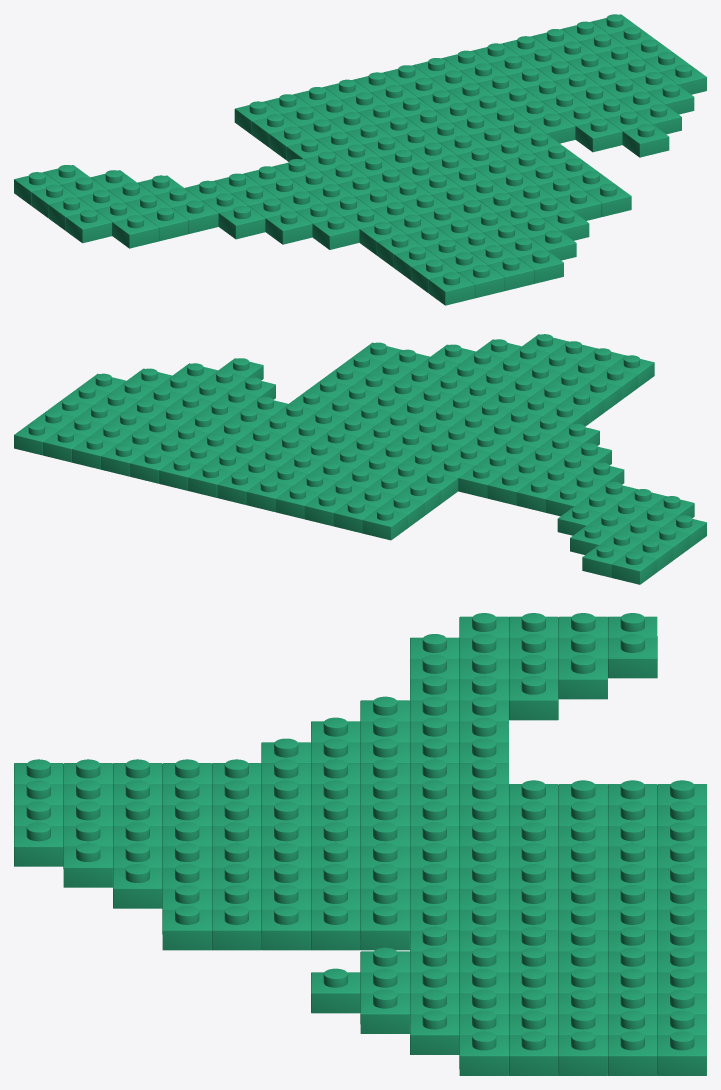
File: Irkutsk.fbx
The picture shows the model from 3 angles, top to bottom: view 1: azimuth 30°, elevation 25°; view 2: azimuth 150°, elevation 25°; view 3: azimuth 270°, elevation 25°; orthographic projection. The views are drawn at different scales.
Parts seen in each view (by area): view 1: Cylinder_140; view 2: Cylinder_140; view 3: Cylinder_140.
Boxes of the visible parts, x1,y1,x2,y2 form: Cylinder_140: (14,14,706,305); Cylinder_140: (14,334,706,584); Cylinder_140: (14,613,706,1075).
Size of the model in its own units: 2100 by 65.03 by 1400.
